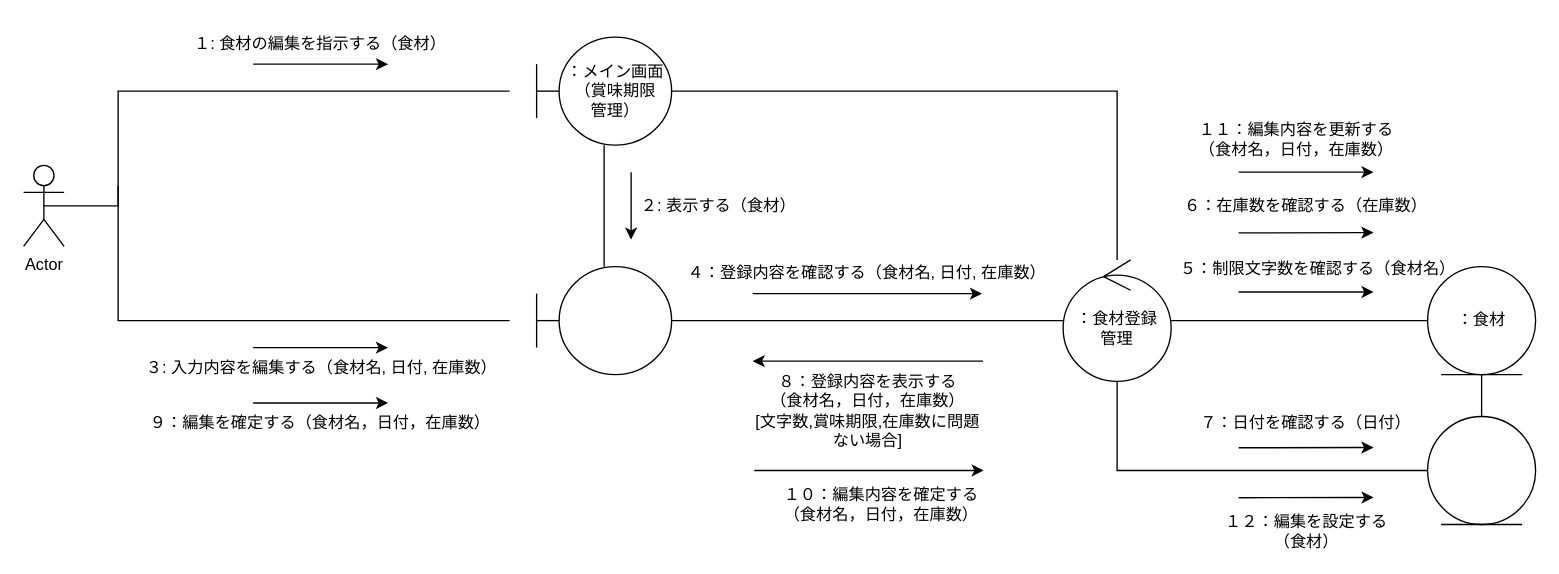
Some shapes in this 1559 by 574 pixel diagram are drawn without their labels. Here are the shapes that lost their labels. From the top down, the centre of each, then its label:
the point at 603,320: ：食材編集 画面
the point at 1481,469: ：賞味期限管理リスト
